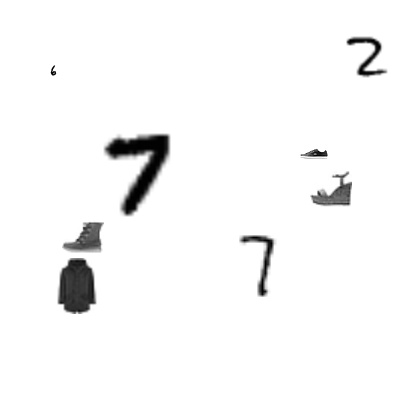2: (339, 27, 395, 83)
6: (46, 64, 60, 78)
7: (85, 107, 197, 219), (219, 215, 303, 299)
Ankle_boot: (62, 215, 104, 257)
Coat: (48, 258, 104, 314)
Sandal: (310, 167, 352, 209)
Sneaker: (300, 139, 328, 167)
